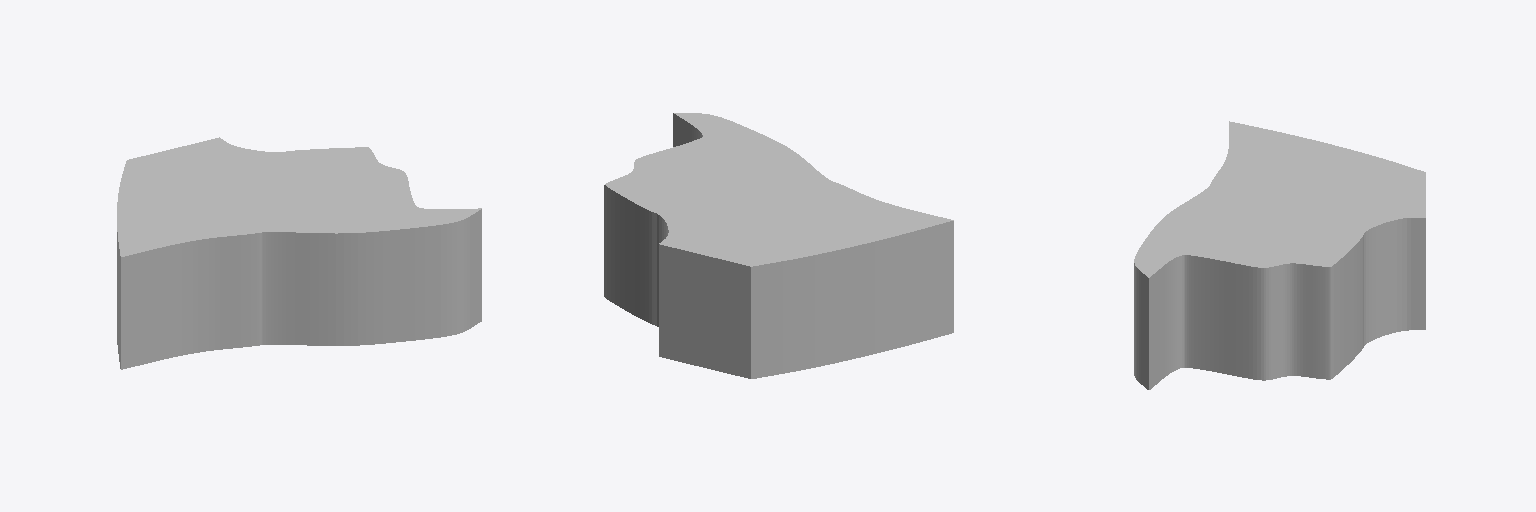
File: North_America_07.obj
3 views of the same model, side by side, from view 1: azimuth 30°, elevation 25°; view 2: azimuth 150°, elevation 25°; view 3: azimuth 270°, elevation 25° (orthographic).
Visible parts, largest first — view 1: North_America_07_path4196; view 2: North_America_07_path4196; view 3: North_America_07_path4196.
Boxes of the visible parts, <box> form: North_America_07_path4196: <box>117,137,481,369</box>; North_America_07_path4196: <box>604,113,953,378</box>; North_America_07_path4196: <box>1134,121,1425,389</box>.
Size of the model in its own units: 0.2987 by 0.1 by 0.2346.